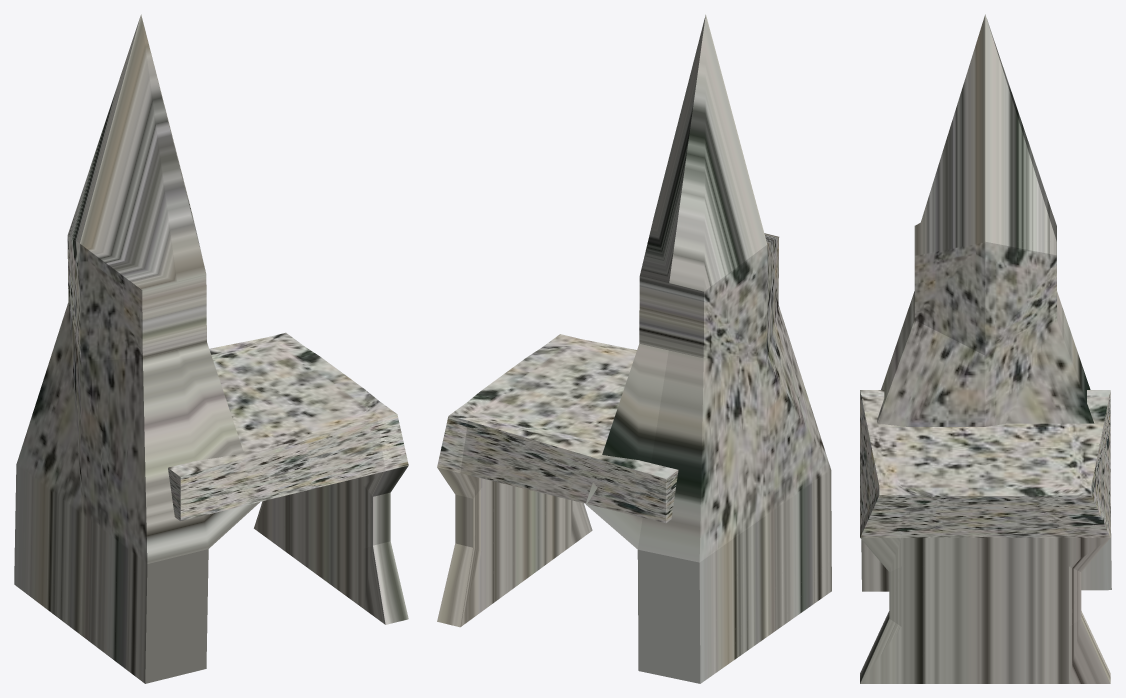
Rendered from Chair.glb.
3 views of the same model, side by side, from view 1: azimuth 30°, elevation 25°; view 2: azimuth 150°, elevation 25°; view 3: azimuth 270°, elevation 25° (orthographic). The views are drawn at different scales.
Visible parts, largest first — view 1: Cube; view 2: Cube; view 3: Cube.
Part boxes in pixels (x1,y1,x2,y2): Cube: (14, 14, 408, 683); Cube: (437, 14, 831, 683); Cube: (860, 14, 1111, 683).
Bounding box in the file's own units: 2.31 × 5.09 × 2.01.
Materials: 1 (1 with a texture image).
